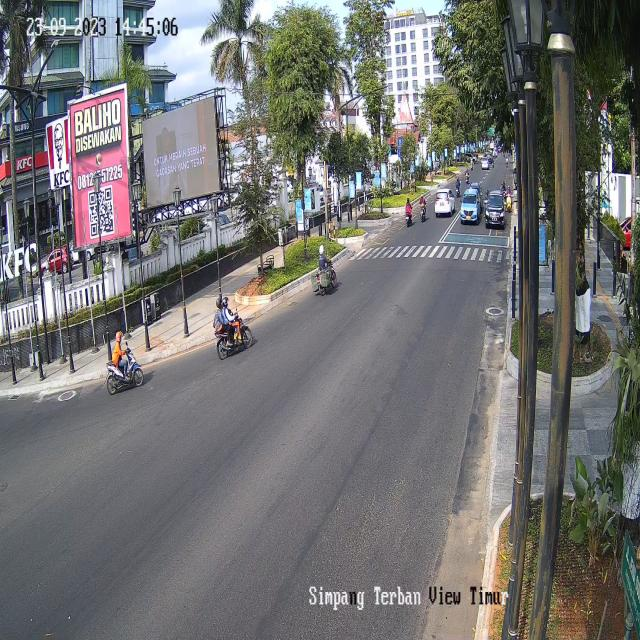car: (487, 189, 508, 233), (460, 185, 480, 223), (434, 188, 454, 218)
motorcycle: (214, 296, 253, 368), (106, 331, 140, 397), (315, 238, 337, 294), (419, 191, 427, 225), (405, 197, 411, 229)
